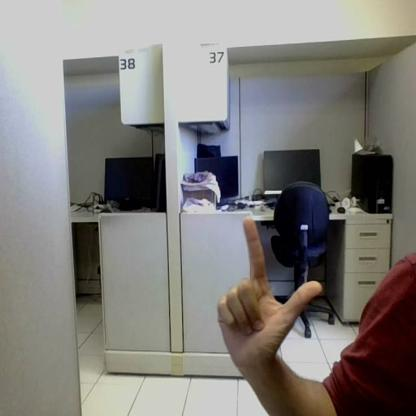L: (218, 217, 322, 362)
